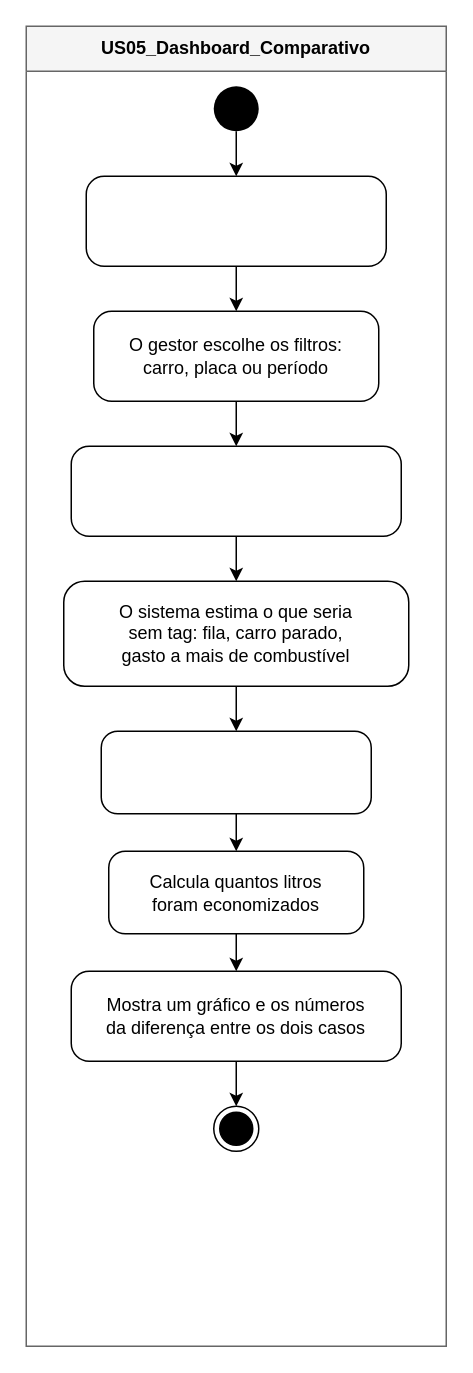
Some shapes in this 473 by 1373 pixel diagram are drawn without their labels. Each missing label, with the centre of its shape:
Calcula quanto dinheiro (R$) foi economizado: point (235, 772)
O gestor abre o painel "Com Taggy x Sem Taggy": point (235, 220)
O sistema mostra o gasto real usando a Taggy (passagem rápida): point (235, 490)
